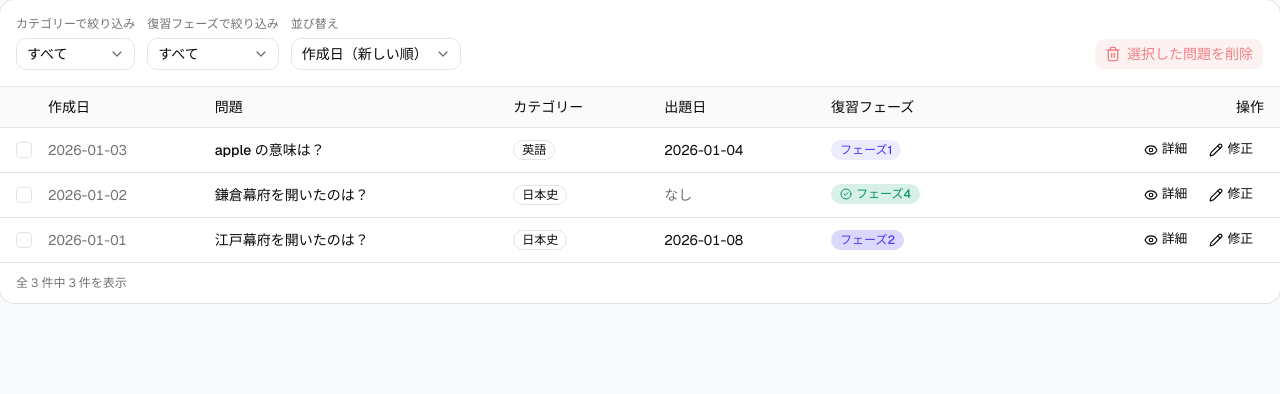
QuestionList 一括削除 › 削除に失敗した場合はエラーメッセージを表示する
Click the checkbox named "「江戸幕府を開いたのは？」を選択" at (24, 240), box [16,232,32,248]
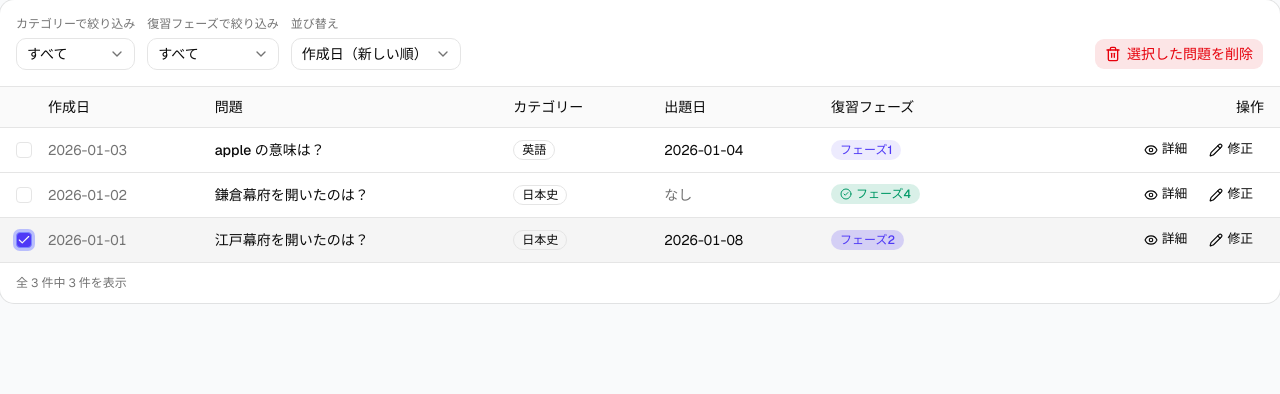
Click the button "選択した問題を削除" at (1179, 54), box [1094,38,1264,70]
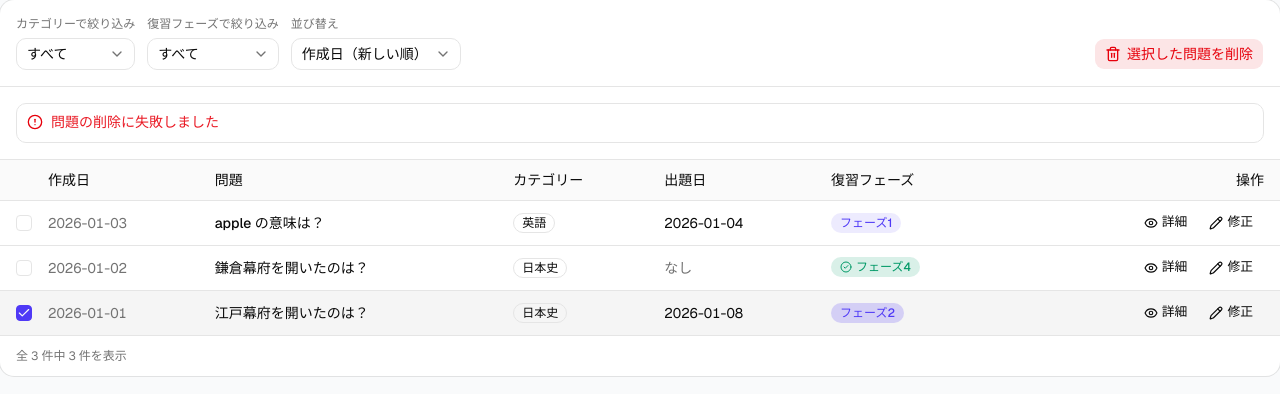
Expected: the message reads "問題の削除に失敗しました", [51,113,219,131]
